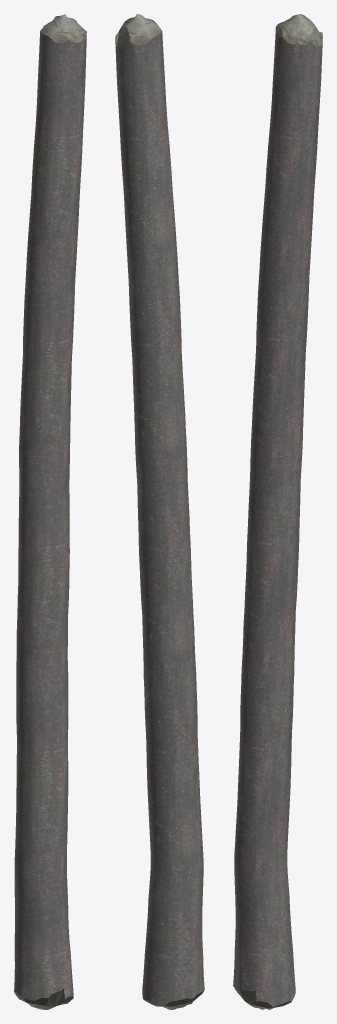
3 views of the same model, side by side, from view 1: azimuth 30°, elevation 25°; view 2: azimuth 150°, elevation 25°; view 3: azimuth 330°, elevation 25° (orthographic).
Visible parts, largest first — view 1: SM_GF_Ash_Tree_02_full_LOD0; view 2: SM_GF_Ash_Tree_02_full_LOD0; view 3: SM_GF_Ash_Tree_02_full_LOD0.
Part boxes in pixels (box(x1,y1,x2,y2)): SM_GF_Ash_Tree_02_full_LOD0: box(14, 14, 86, 1009); SM_GF_Ash_Tree_02_full_LOD0: box(115, 14, 204, 1009); SM_GF_Ash_Tree_02_full_LOD0: box(233, 14, 322, 1009).
Size of the model in its own units: 0.6395 by 8.21 by 0.5112.
Materials: 1 (1 with a texture image).
